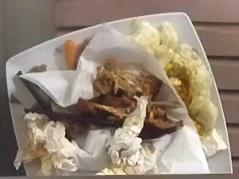carrots: (66, 40, 83, 69)
vegetables: (131, 22, 218, 138)
